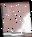dent: (0, 2, 32, 37)
